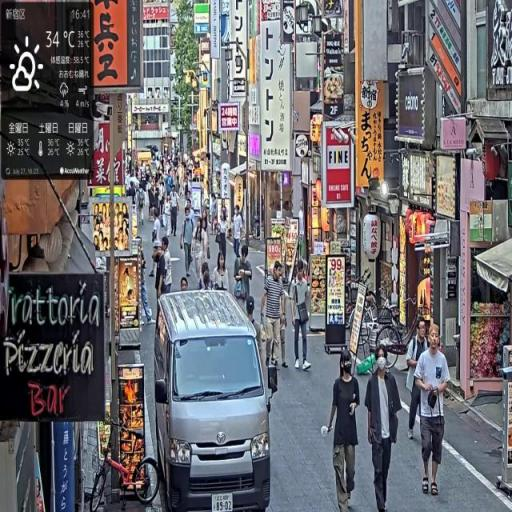person: (410, 322, 451, 500), (364, 346, 404, 512), (325, 352, 361, 512), (406, 320, 430, 447), (261, 260, 287, 368), (291, 260, 313, 372), (181, 207, 196, 277), (158, 236, 174, 298), (212, 252, 232, 295), (170, 187, 180, 239)
